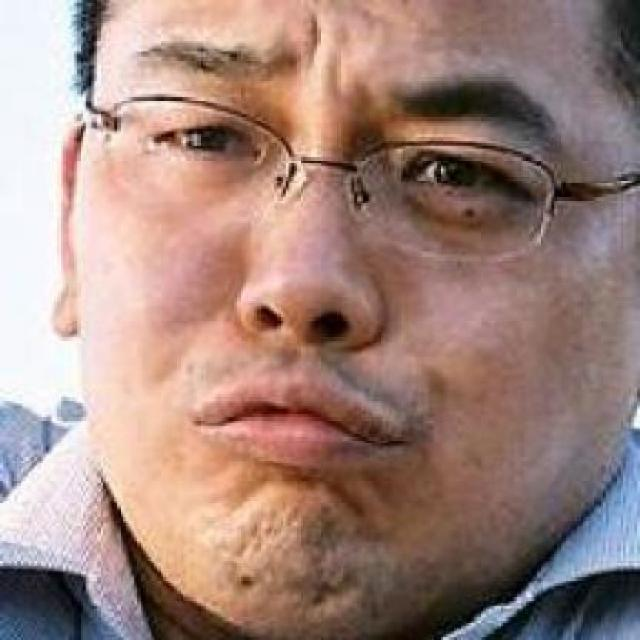angry: (78, 27, 579, 640)
